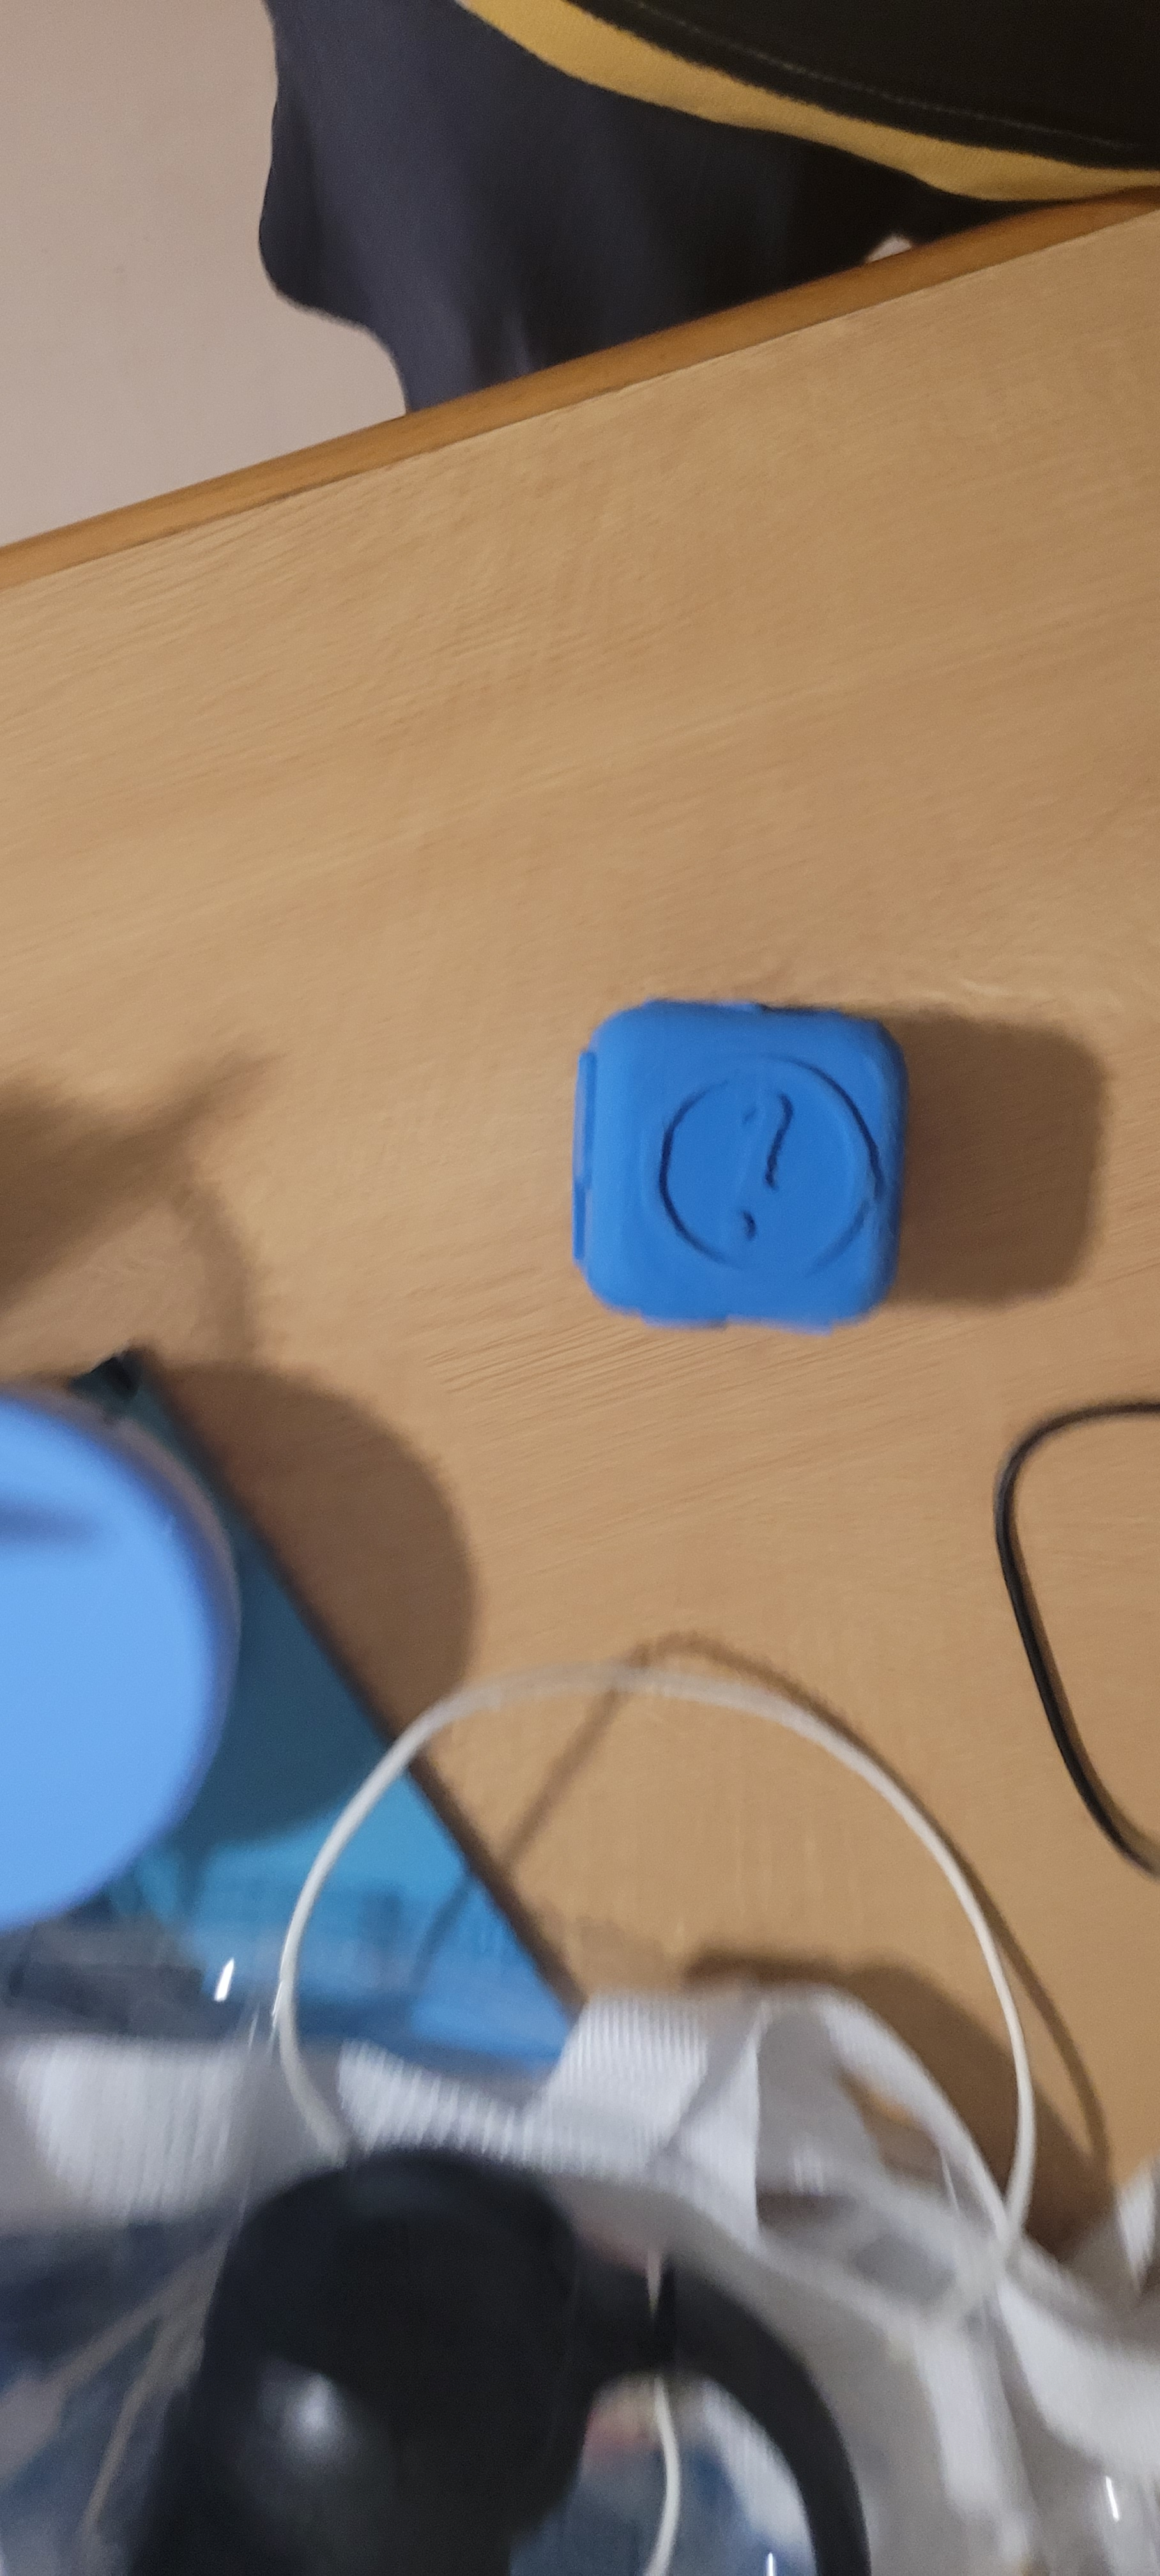Info: (619, 1020, 881, 1311)
